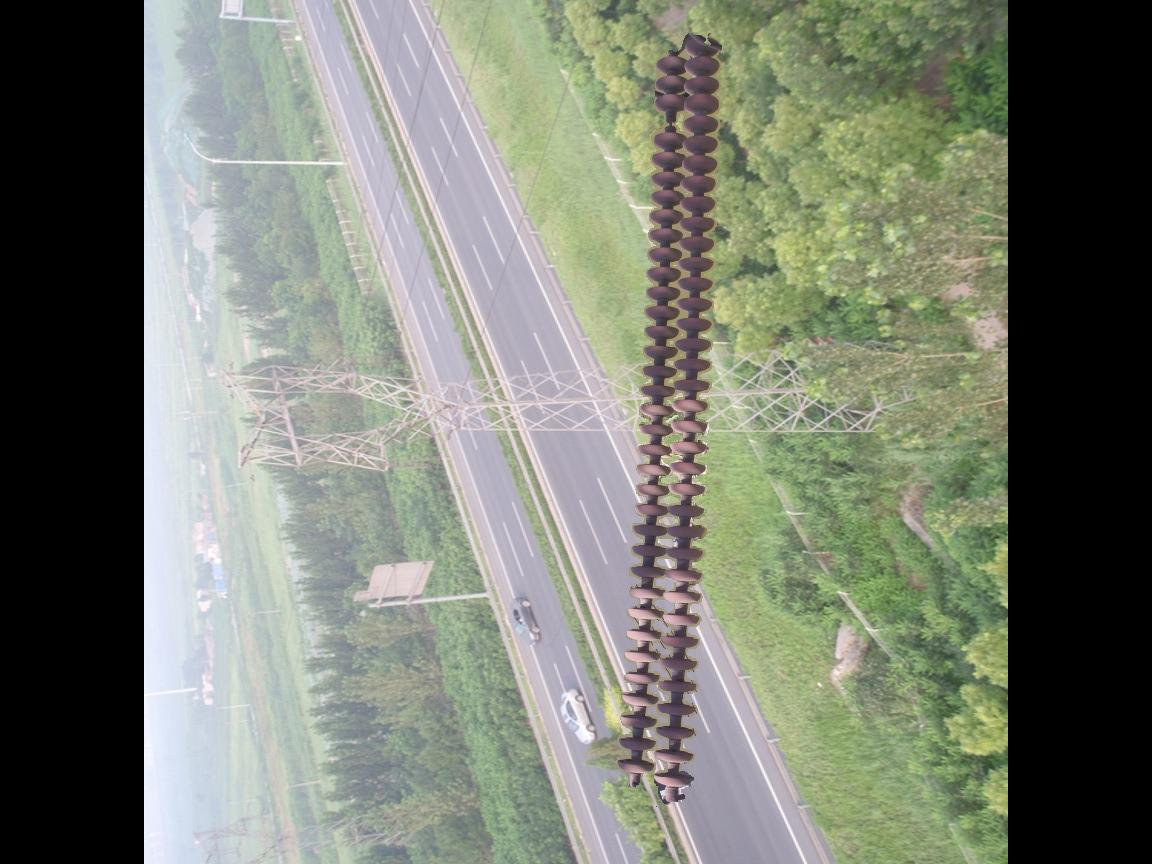insulator: (615, 36, 725, 804)
insulator_stringdrop: (650, 88, 690, 152)
